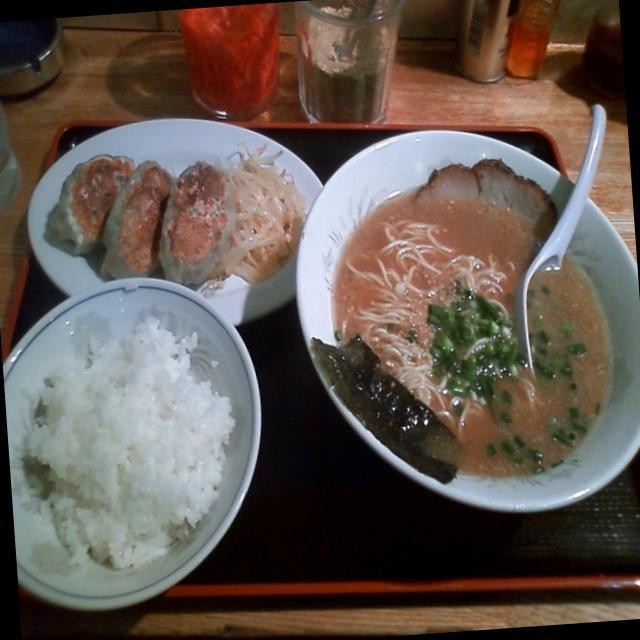Rice: (0, 270, 277, 614)
